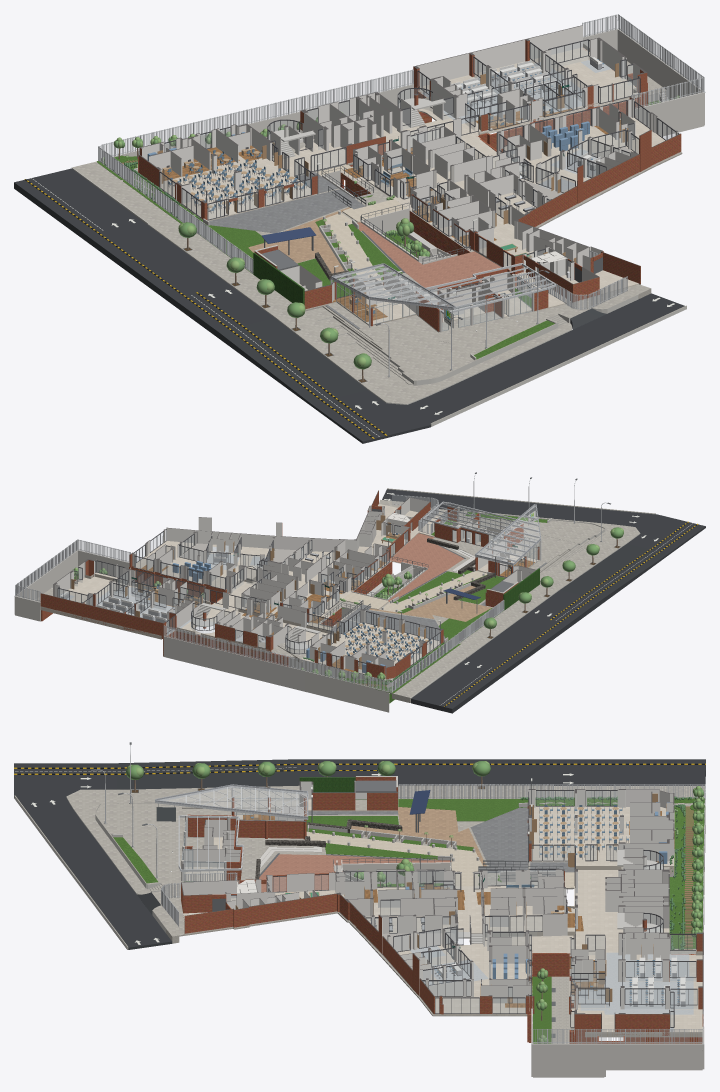
The model's file is floor-1.glb.
3 views of the same model, one above another, from view 1: azimuth 30°, elevation 25°; view 2: azimuth 150°, elevation 25°; view 3: azimuth 270°, elevation 25° (orthographic). The views are drawn at different scales.
Visible parts, largest first — view 1: Walls, Floor_Slab, Glass, Access_Plaza_Surface_25, PZ_Pavimentos, Access_Plaza_Surface_23, Access_Plaza_Surface_24, PH_Muros, Site, Floor_Zones, Perim_V2_Norte_Lindero, P1_A_Columnas (+39 smaller); view 2: Walls, Floor_Slab, Glass, PZ_Pavimentos, Access_Plaza_Surface_25, Access_Plaza_Surface_23, SP_Muro_Lindero, PH_Muros, Access_Plaza_Surface_24, Perim_V2_Norte_Lindero, Floor_Zones, P1_A_Columnas (+37 smaller); view 3: Walls, Floor_Slab, Glass, PZ_Pavimentos, Access_Plaza_Surface_23, Access_Plaza_Surface_25, PH_Muros, Floor_Zones, Access_Plaza_Surface_24, Site, P1_A_Columnas, Glass_Frames_Top (+42 smaller).
Boxes of the visible parts, box(x1,y1,x2,y2) form: Walls: box(138, 25, 681, 331); Floor_Slab: box(139, 43, 681, 332); Glass: box(160, 41, 675, 295); Access_Plaza_Surface_25: box(14, 168, 275, 338); PZ_Pavimentos: box(200, 164, 527, 329); Access_Plaza_Surface_23: box(311, 293, 684, 443); Access_Plaza_Surface_24: box(219, 318, 367, 405); PH_Muros: box(478, 29, 704, 152); Site: box(122, 92, 682, 351); Floor_Zones: box(163, 60, 620, 321); Perim_V2_Norte_Lindero: box(101, 69, 413, 157); P1_A_Columnas: box(155, 38, 647, 219); Walls: box(40, 490, 535, 678); Floor_Slab: box(40, 504, 539, 679); Glass: box(58, 530, 480, 673); PZ_Pavimentos: box(307, 533, 547, 642); Access_Plaza_Surface_25: box(411, 590, 601, 713); Access_Plaza_Surface_23: box(382, 489, 705, 555); SP_Muro_Lindero: box(163, 636, 389, 712); PH_Muros: box(14, 550, 229, 621); Access_Plaza_Surface_24: box(560, 544, 668, 604); Perim_V2_Norte_Lindero: box(163, 625, 388, 691); Floor_Zones: box(60, 532, 534, 675); P1_A_Columnas: box(69, 559, 443, 670); Walls: box(181, 781, 703, 1034); Floor_Slab: box(181, 799, 702, 1037); Glass: box(345, 791, 697, 1030); PZ_Pavimentos: box(249, 799, 574, 892); Access_Plaza_Surface_23: box(14, 763, 172, 949); Access_Plaza_Surface_25: box(299, 759, 705, 785); PH_Muros: box(527, 951, 704, 1077); Floor_Zones: box(243, 811, 693, 1031); Access_Plaza_Surface_24: box(117, 759, 299, 789); Site: box(179, 798, 704, 1050); P1_A_Columnas: box(528, 789, 703, 1035); Glass_Frames_Top: box(231, 790, 697, 1015).
Size of the model in its own units: 99.84 by 13.14 by 99.89.
Materials: 67 (18 with a texture image).
